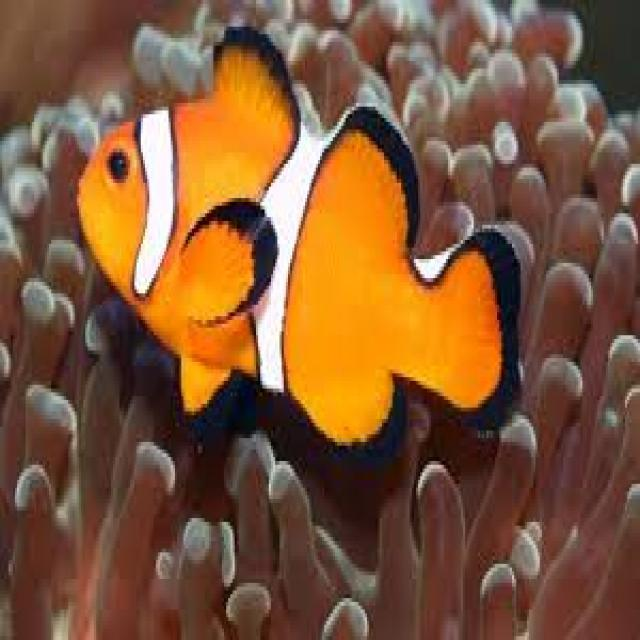ClownFish: (73, 24, 523, 439)
